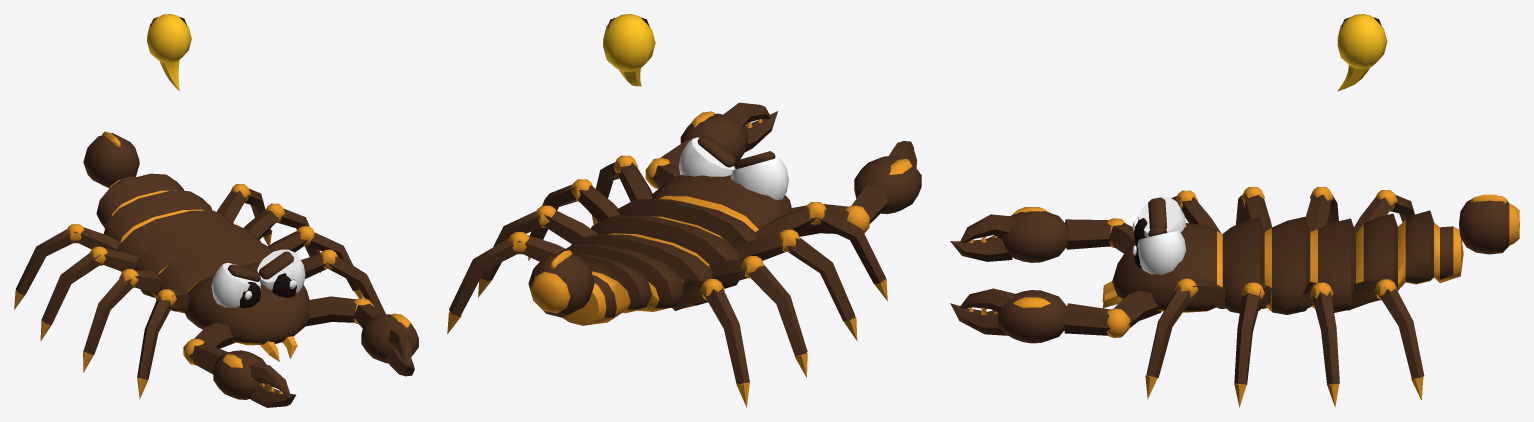
The model's file is scorpion.glb.
The picture shows the model from 3 angles, left to right: view 1: azimuth 30°, elevation 25°; view 2: azimuth 150°, elevation 25°; view 3: azimuth 270°, elevation 25°; orthographic projection. The views are drawn at different scales.
Visible parts, largest first — view 1: body, arm_r, arm_l, tail_seg, sting, leg_r3, leg_r4, leg_r2, leg_r1, leg_l1, leg_l2, leg_l3 (+3 smaller); view 2: body, arm_r, arm_l, tail_seg, leg_r2, leg_r1, leg_r3, sting, leg_r4, leg_l4, leg_l3, leg_l2 (+2 smaller); view 3: body, arm_l, arm_r, tail_seg, leg_l1, sting, leg_l4, leg_l2, leg_l3, leg_r4, leg_r3, leg_r2 (+3 smaller).
Boxes of the visible parts, bbox=[...] form: body: bbox=[96, 173, 309, 361]; arm_r: bbox=[183, 322, 295, 407]; arm_l: bbox=[306, 296, 418, 376]; tail_seg: bbox=[83, 131, 139, 187]; sting: bbox=[147, 14, 191, 91]; leg_r3: bbox=[40, 246, 138, 341]; leg_r4: bbox=[14, 224, 120, 309]; leg_r2: bbox=[83, 269, 161, 372]; leg_r1: bbox=[137, 289, 189, 399]; leg_l1: bbox=[301, 249, 385, 314]; leg_l2: bbox=[268, 226, 363, 298]; leg_l3: bbox=[243, 203, 320, 272]; body: bbox=[560, 136, 792, 325]; arm_r: bbox=[792, 150, 921, 236]; arm_l: bbox=[645, 111, 777, 188]; tail_seg: bbox=[528, 250, 594, 317]; leg_r2: bbox=[734, 229, 857, 340]; leg_r1: bbox=[755, 202, 887, 301]; leg_r3: bbox=[708, 256, 807, 377]; sting: bbox=[603, 14, 655, 86]; leg_r4: bbox=[672, 279, 749, 407]; leg_l4: bbox=[447, 232, 565, 334]; leg_l3: bbox=[478, 205, 597, 297]; leg_l2: bbox=[528, 179, 620, 260]; body: bbox=[1102, 196, 1463, 314]; arm_l: bbox=[950, 290, 1161, 343]; arm_r: bbox=[950, 207, 1134, 262]; tail_seg: bbox=[1459, 194, 1519, 254]; leg_l1: bbox=[1145, 278, 1225, 399]; sting: bbox=[1337, 14, 1387, 91]; leg_l4: bbox=[1348, 279, 1424, 400]; leg_l2: bbox=[1234, 281, 1271, 407]; leg_l3: bbox=[1302, 282, 1339, 407]; leg_r4: bbox=[1354, 190, 1414, 232]; leg_r3: bbox=[1305, 186, 1338, 231]; leg_r2: bbox=[1236, 186, 1271, 231].
Size of the model in its own units: 1.89 by 1.83 by 2.99.
